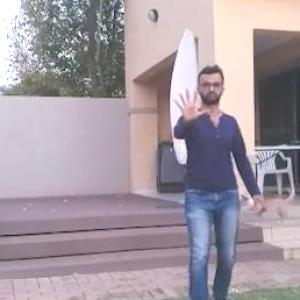follow_hand: (170, 85, 213, 130)
